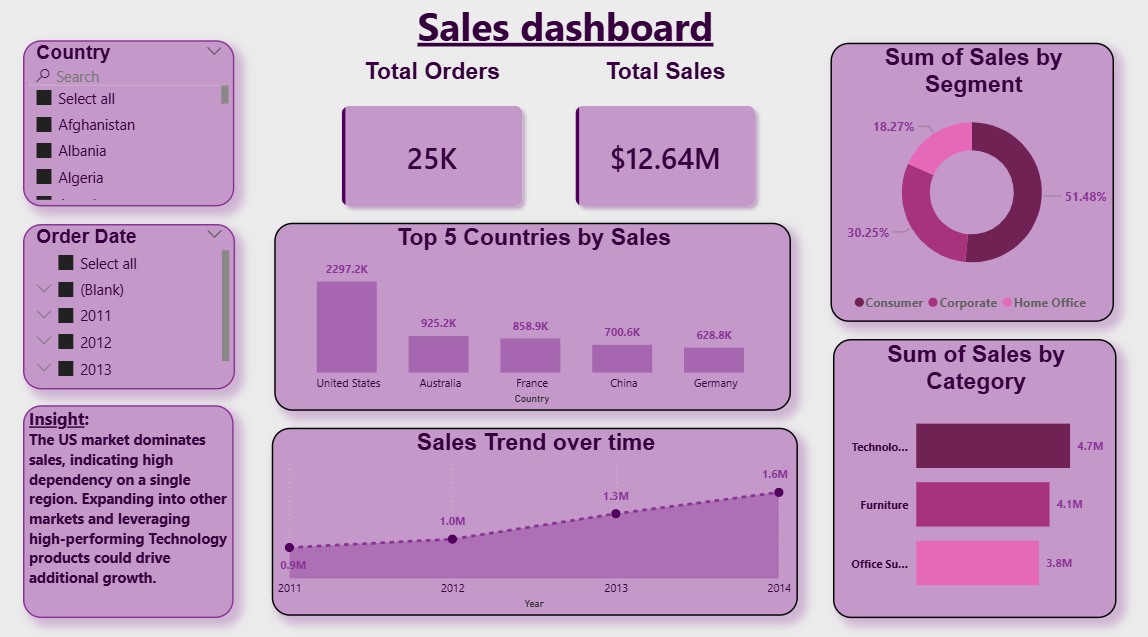

This screenshot's page, from the dashboard's own definition file:
{"tool":"powerbi","page":{"name":"Page 1","canvas":[1280,720],"ordinal":0},"visuals":[{"type":"cardVisual","title":"Total Sales","fields":{"Data":["Sum(superstore_dataset2011-2015 (2).Sales)"]},"box":[621.4,70,255.1,192.4],"z":0},{"type":"cardVisual","title":"Total Orders","fields":{"Data":["superstore_dataset2011-2015 (2).totale order"]},"box":[364.8,70,256.6,192.4],"z":1000},{"type":"textbox","box":[347.7,0,584.6,74.1],"z":2000},{"type":"slicer","fields":{"Values":["superstore_dataset2011-2015 (2).Country"]},"box":[43.4,51.1,232.3,182.4],"z":3000},{"type":"slicer","fields":{"Values":["superstore_dataset2011-2015 (2).Order Date.Variation.Date Hierarchy.Year","superstore_dataset2011-2015 (2).Order Date.Variation.Date Hierarchy.Month"]},"box":[44,252.9,232.6,181.8],"z":4000},{"type":"columnChart","title":"Top 5 Countries by Sales","fields":{"Category":["superstore_dataset2011-2015 (2).Country"],"Y":["Sum(superstore_dataset2011-2015 (2).Sales)"]},"box":[319.4,251,567.3,206.7],"z":5000},{"type":"lineChart","title":"Sales Trend over time","fields":{"Category":["superstore_dataset2011-2015 (2).Order Date.Variation.Date Hierarchy.Year","superstore_dataset2011-2015 (2).Order Date.Variation.Date Hierarchy.Month"],"Y":["Sum(superstore_dataset2011-2015 (2).Sales)"]},"box":[316.6,476.3,577.3,206.7],"z":6000},{"type":"donutChart","fields":{"Y":["Sum(superstore_dataset2011-2015 (2).Sales)"],"Category":["superstore_dataset2011-2015 (2).Segment"]},"box":[930.4,53.5,311.5,306],"z":7000},{"type":"barChart","fields":{"Category":["superstore_dataset2011-2015 (2).Category"],"Y":["Sum(superstore_dataset2011-2015 (2).Sales)"]},"box":[932.6,379,311.5,306],"z":8000},{"type":"textbox","box":[44,451.7,231.5,233.7],"z":9000}]}

Visuals, with their boxes in screenshot pixels (x1, y1, x2, y2), scaled from the page's 1280x720 canvas onto the 1148x637 screenshot:
"Total Sales" cardVisual: x1=557 y1=62 x2=786 y2=232
"Total Orders" cardVisual: x1=327 y1=62 x2=557 y2=232
textbox: x1=312 y1=0 x2=836 y2=66
slicer - superstore_dataset2011-2015 (2).Country: x1=39 y1=45 x2=247 y2=207
slicer - superstore_dataset2011-2015 (2).Order Date.Variation.Date Hierarchy.Year x superstore_dataset2011-2015 (2).Order Date.Variation.Date Hierarchy.Month: x1=39 y1=224 x2=248 y2=385
"Top 5 Countries by Sales" columnChart: x1=286 y1=222 x2=795 y2=405
"Sales Trend over time" lineChart: x1=284 y1=421 x2=802 y2=604
donutChart - Sum(superstore_dataset2011-2015 (2).Sales) x superstore_dataset2011-2015 (2).Segment: x1=834 y1=47 x2=1114 y2=318
barChart - superstore_dataset2011-2015 (2).Category x Sum(superstore_dataset2011-2015 (2).Sales): x1=836 y1=335 x2=1116 y2=606
textbox: x1=39 y1=400 x2=247 y2=606
